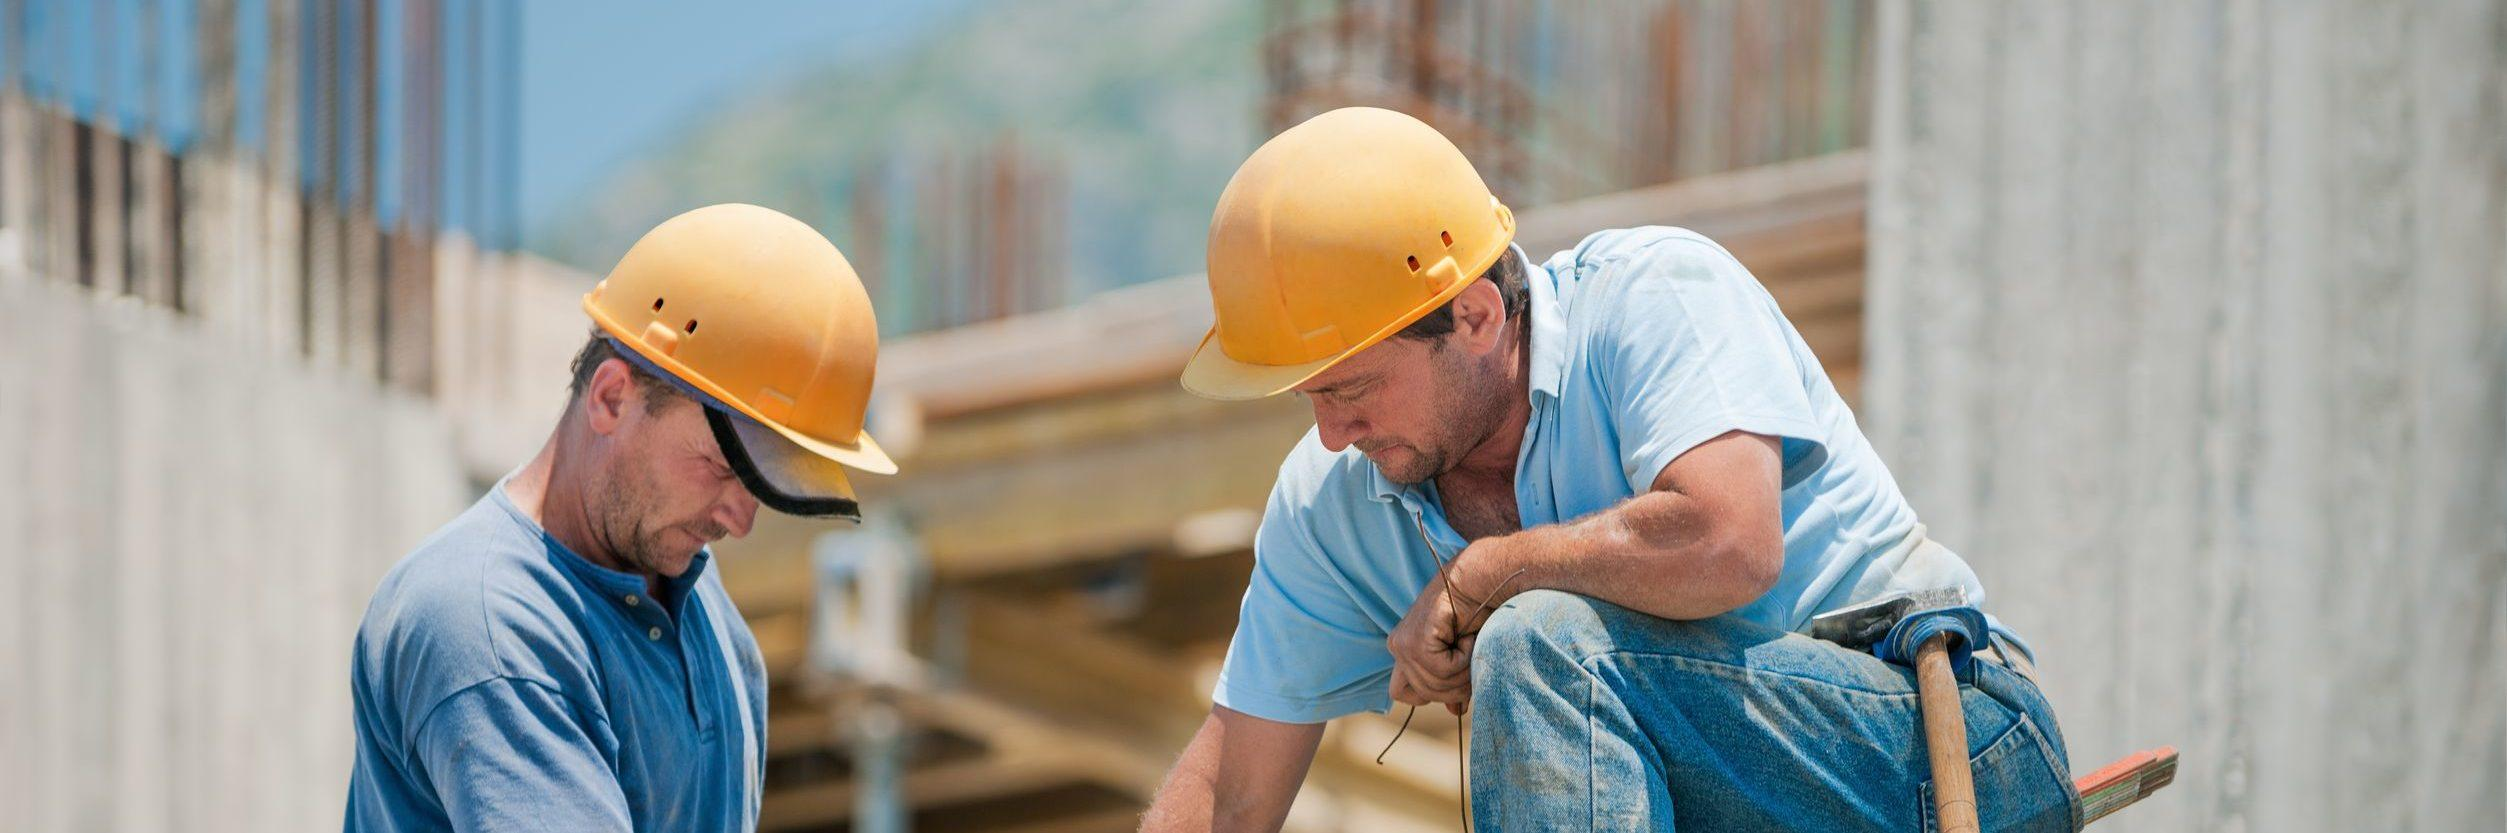helmet: (1178, 109, 1524, 405), (587, 198, 899, 481)
